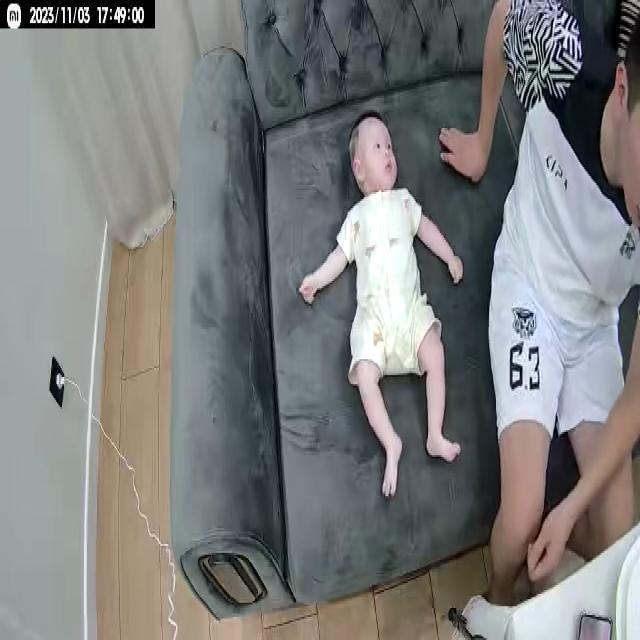baby: (294, 110, 464, 503)
